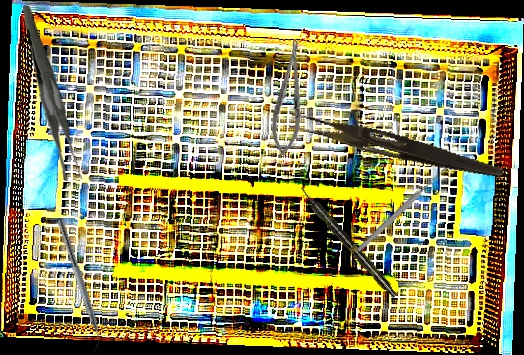Chopper: (48, 219, 108, 353)
Dressing Forceps: (286, 111, 507, 182), (14, 5, 91, 183)
Handpiece: (296, 183, 400, 301)
Needle Holder: (268, 37, 311, 159)
Surgical Spoon: (355, 166, 449, 253)
